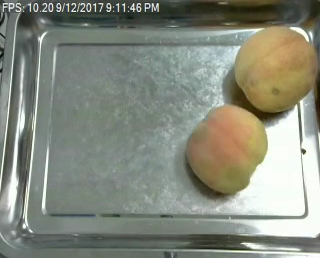Peach: (186, 102, 269, 193), (232, 24, 317, 112)
